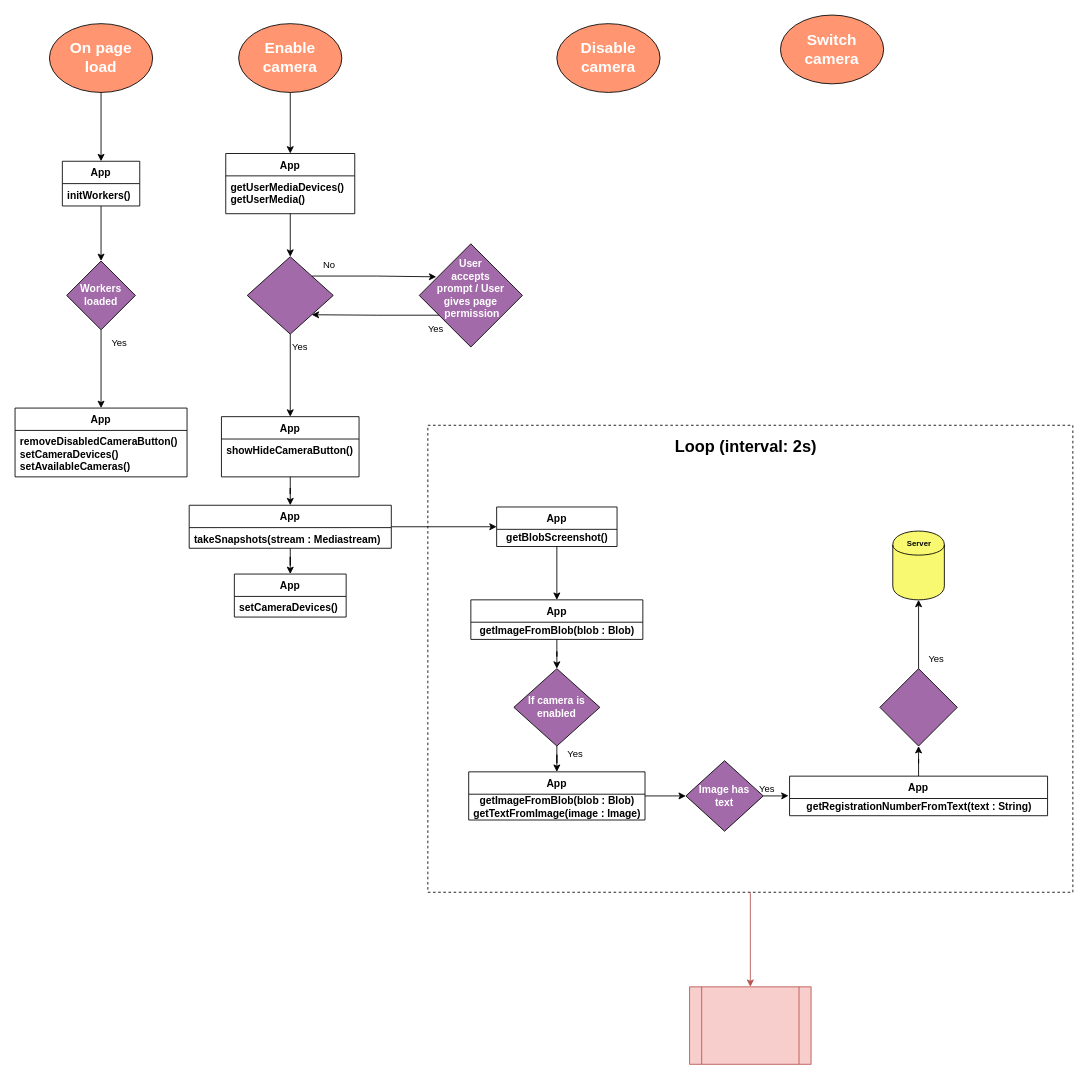
Image size: 1088x1079. Some labels were removed from this diagram. The shapes that lost their labels are listed below. From the top down, each one's box as (x1, y1, x2, y2) in pixels, then its label:
(246, 256, 333, 334): Has given permission
(892, 530, 944, 600): Fetch medicine
(879, 668, 957, 746): Is valid Registration number
(689, 986, 811, 1064): App catch() Error something went wrong <<error>>
